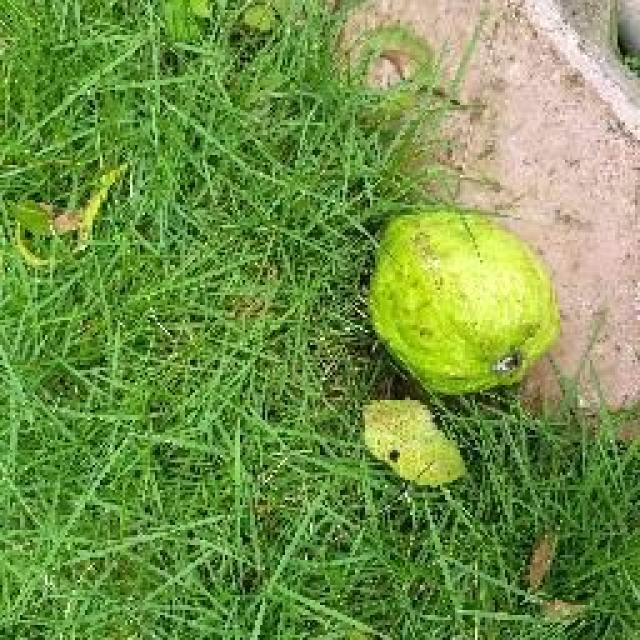Good_Guava: (370, 208, 562, 400)
